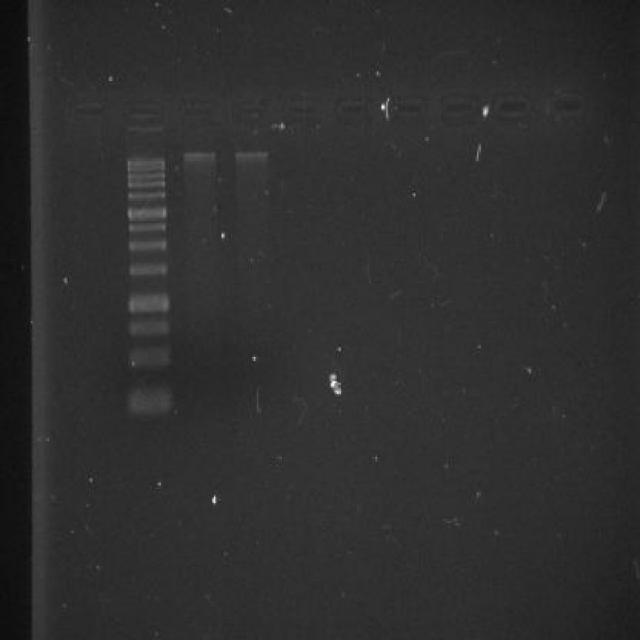B: (232, 149, 272, 162), (180, 150, 220, 162)
L: (116, 76, 596, 146)
M: (116, 147, 178, 424)
P: (121, 380, 174, 418), (123, 345, 171, 373), (123, 290, 171, 316), (123, 317, 171, 340), (124, 261, 168, 284), (124, 236, 168, 256), (125, 204, 168, 222), (124, 189, 168, 203), (125, 222, 168, 236), (124, 171, 167, 180), (124, 157, 166, 166), (124, 180, 168, 188), (124, 166, 168, 172)
Pc: (228, 88, 272, 136), (123, 89, 168, 134), (542, 84, 588, 127), (178, 89, 219, 134), (383, 88, 428, 128), (334, 88, 376, 130), (436, 88, 478, 130), (286, 90, 325, 132), (490, 88, 532, 126)
